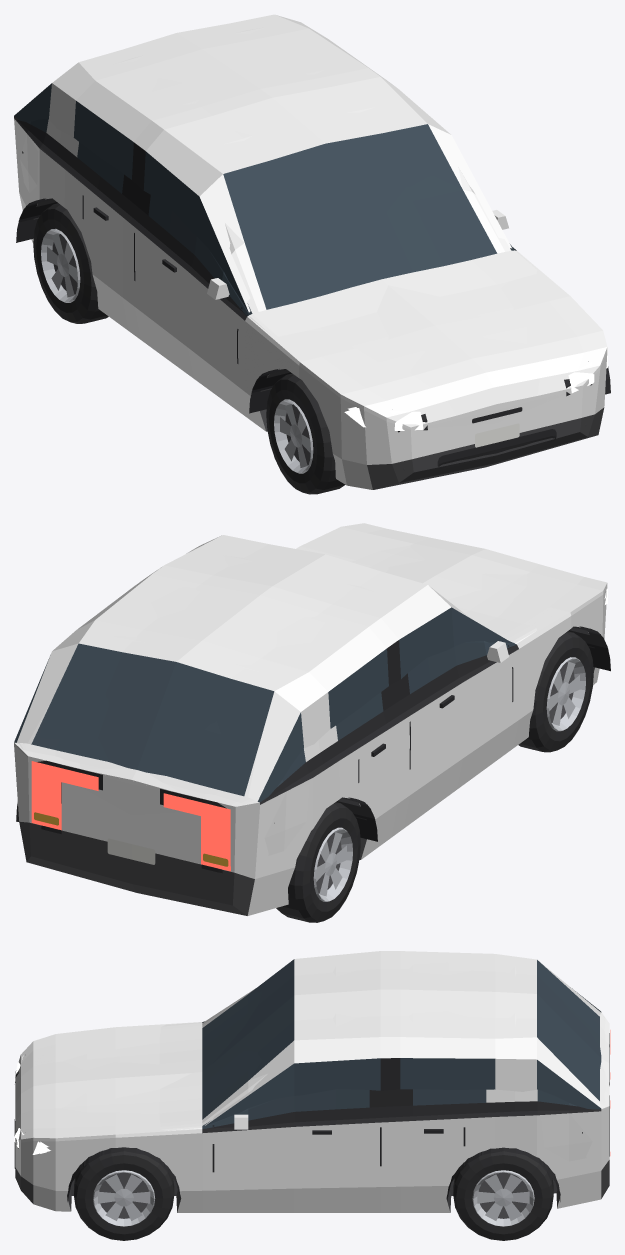
Rendered from tupiniquim.glb.
3 renders of one model, top to bottom at view 1: azimuth 30°, elevation 25°; view 2: azimuth 150°, elevation 25°; view 3: azimuth 270°, elevation 25°, orthographic. The views are drawn at different scales.
Visible parts, largest first — view 1: body.001, body, glass.001, glass, wheel_fr, wheel_rr, details, wheel_wells.001, lamp_head; view 2: body.001, glass.001, body, glass, wheel_rr, wheel_fr, lamp_tail.001, lamp_tail, details, wheel_wells.001; view 3: body.001, body, glass.001, glass, wheel_rl, wheel_fl, wheel_wells, details, wheel_wells.001.
Boxes of the visible parts, x1,y1,x2,y2 form: body.001: (14,14,607,489); body: (17,27,586,470); glass.001: (14,83,516,316); glass: (26,119,515,315); wheel_fr: (266,373,345,494); wheel_rr: (33,203,108,323); details: (22,151,556,468); wheel_wells.001: (16,198,608,413); lamp_head: (348,361,594,432); body.001: (14,523,607,915); glass.001: (14,607,516,802); body: (19,545,537,855); glass: (31,641,515,796); wheel_rr: (276,802,360,922); wheel_fr: (518,631,593,752); lamp_tail.001: (31,761,230,871); lamp_tail: (34,760,230,873); details: (107,641,513,864); wheel_wells.001: (336,626,610,841); body.001: (15,951,609,1212); body: (15,962,609,1195); glass.001: (202,959,601,1128); glass: (202,991,599,1128); wheel_rl: (453,1151,553,1240); wheel_fl: (74,1151,174,1240); wheel_wells: (67,1147,560,1201); details: (14,1114,582,1172); wheel_wells.001: (67,1150,559,1201).
Size of the model in its own units: 1.98 by 1.58 by 4.28.
